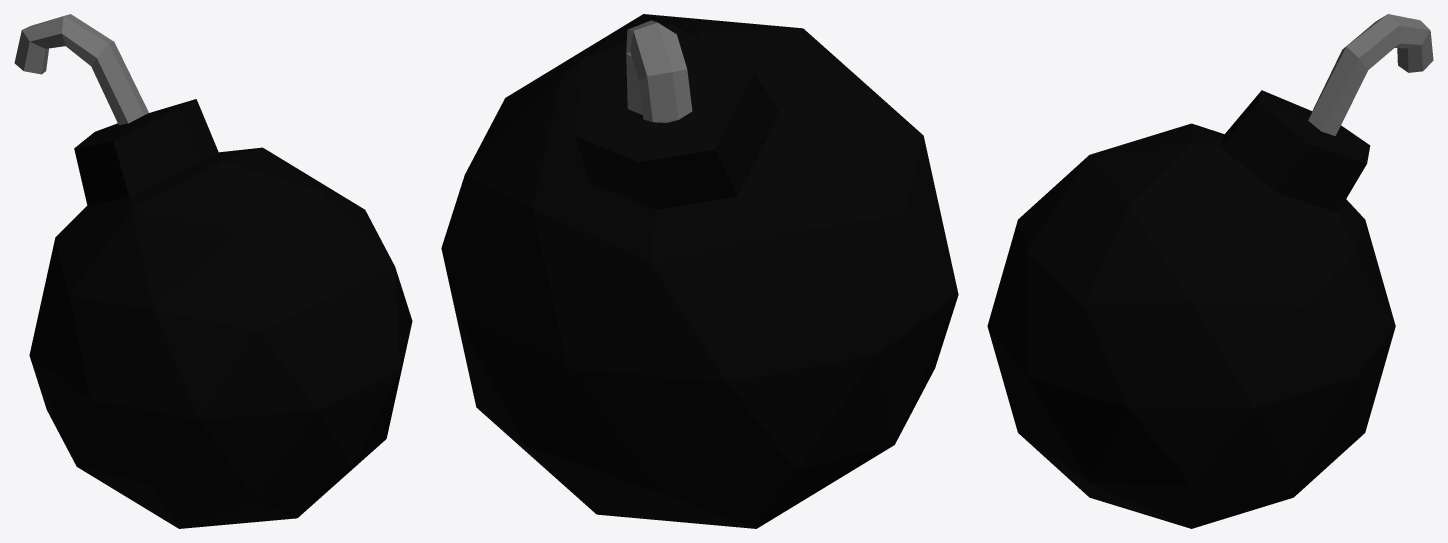
The model's file is bomb.fbx.
3 renders of one model, left to right at view 1: azimuth 30°, elevation 25°; view 2: azimuth 150°, elevation 25°; view 3: azimuth 270°, elevation 25°, orthographic. The views are drawn at different scales.
Parts seen in each view (by area): view 1: Icosphere; view 2: Icosphere; view 3: Icosphere.
Part boxes in pixels (x1,y1,x2,y2): Icosphere: (14,14,412,528); Icosphere: (441,14,958,528); Icosphere: (987,14,1433,528).
Bounding box in the file's own units: 20.03 × 23.01 × 26.47.
Materials: 1 (1 with a texture image).
